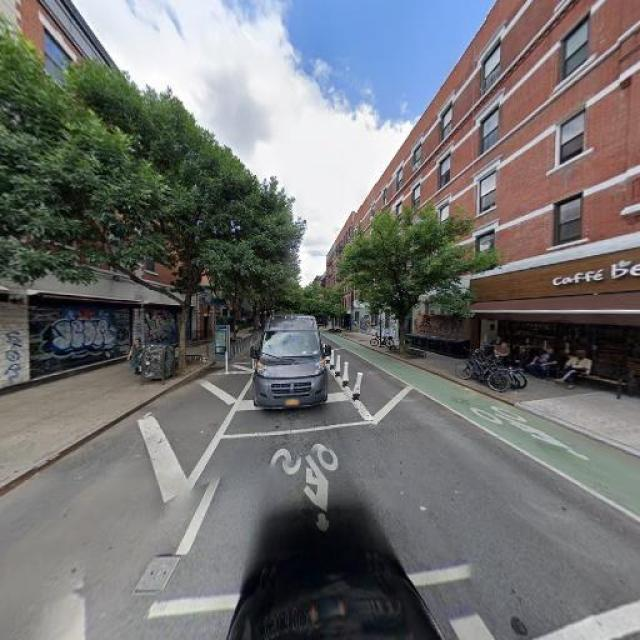Building: (339, 1, 640, 412), (1, 1, 138, 393)
